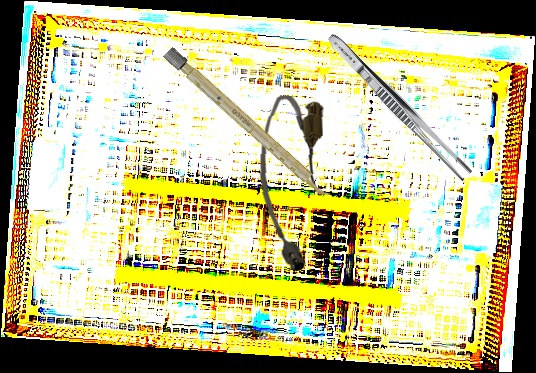Cannula: (253, 94, 325, 272)
Dressing Forceps: (322, 29, 476, 183)
Scalpel Handle: (163, 46, 333, 202)
